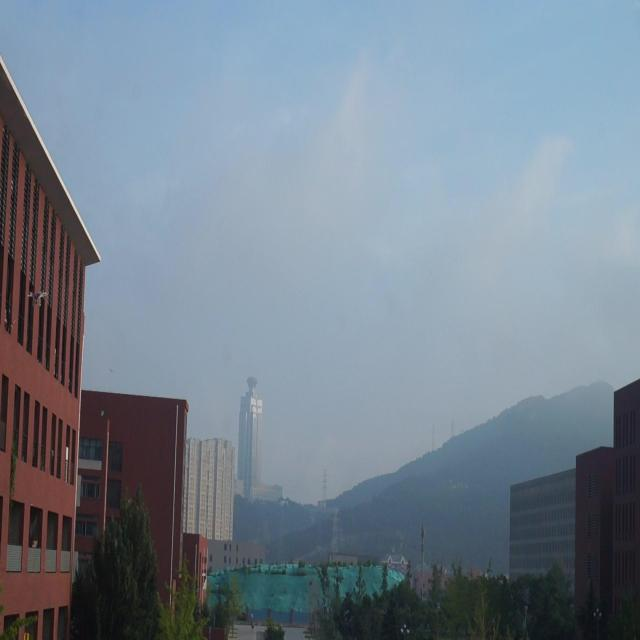drone: (27, 288, 49, 308)
